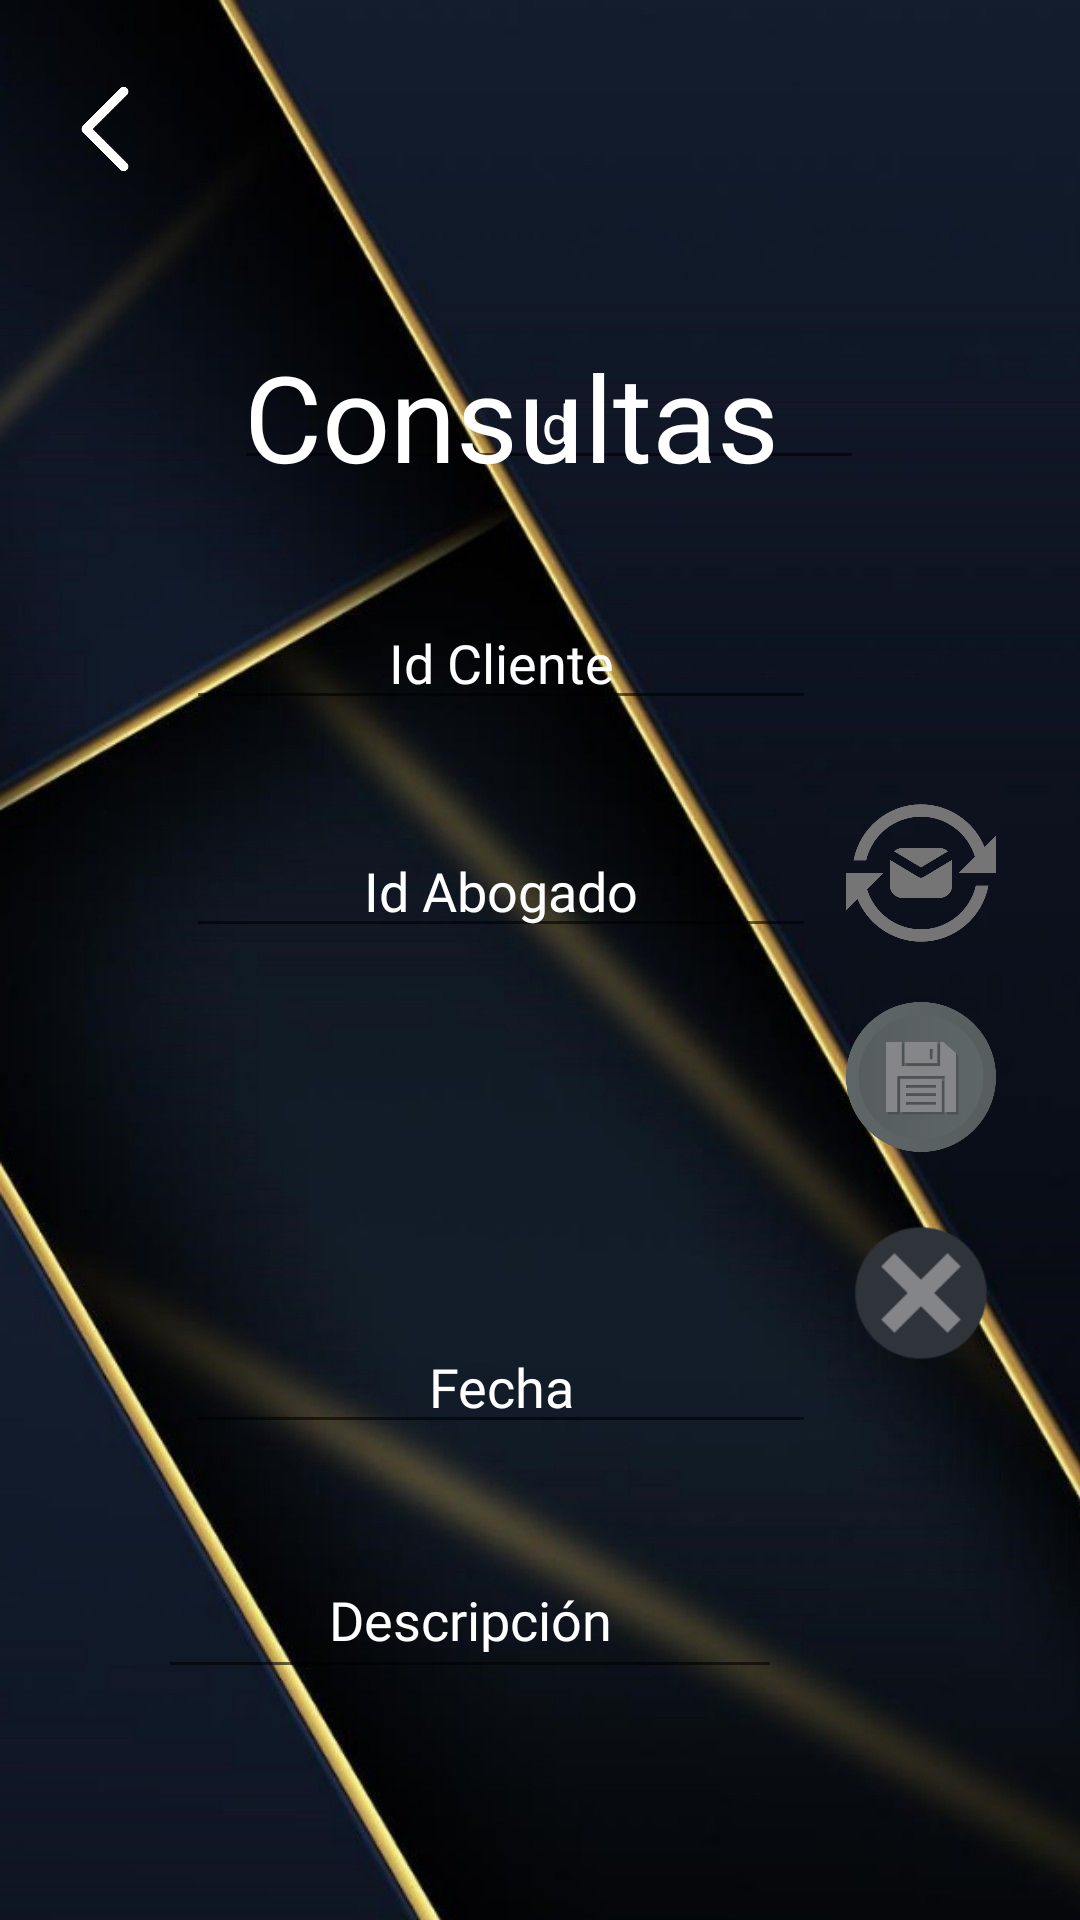

Locate icon controls on the screen. Image size 1080*1920, boxes as (x1, y1, x2, y2).
actualizar: (846, 804, 996, 942)
eliminar: (846, 1218, 996, 1358)
guardar: (846, 1002, 996, 1152)
